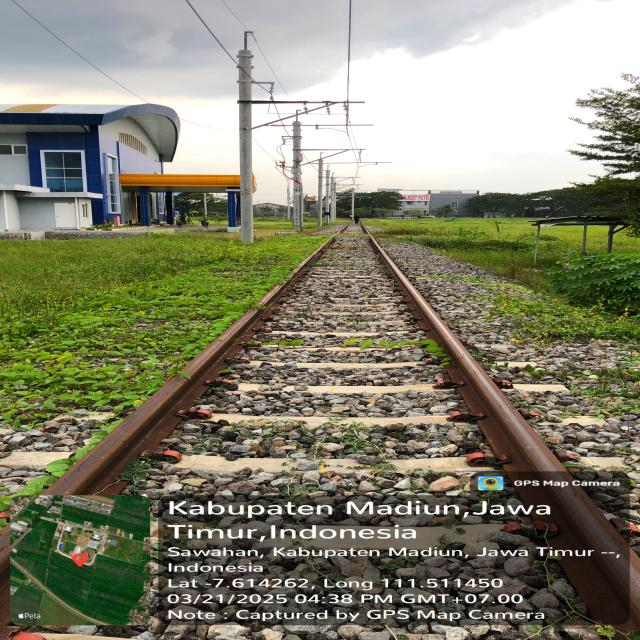rail-detection: (369, 237, 640, 627), (45, 237, 336, 494)
